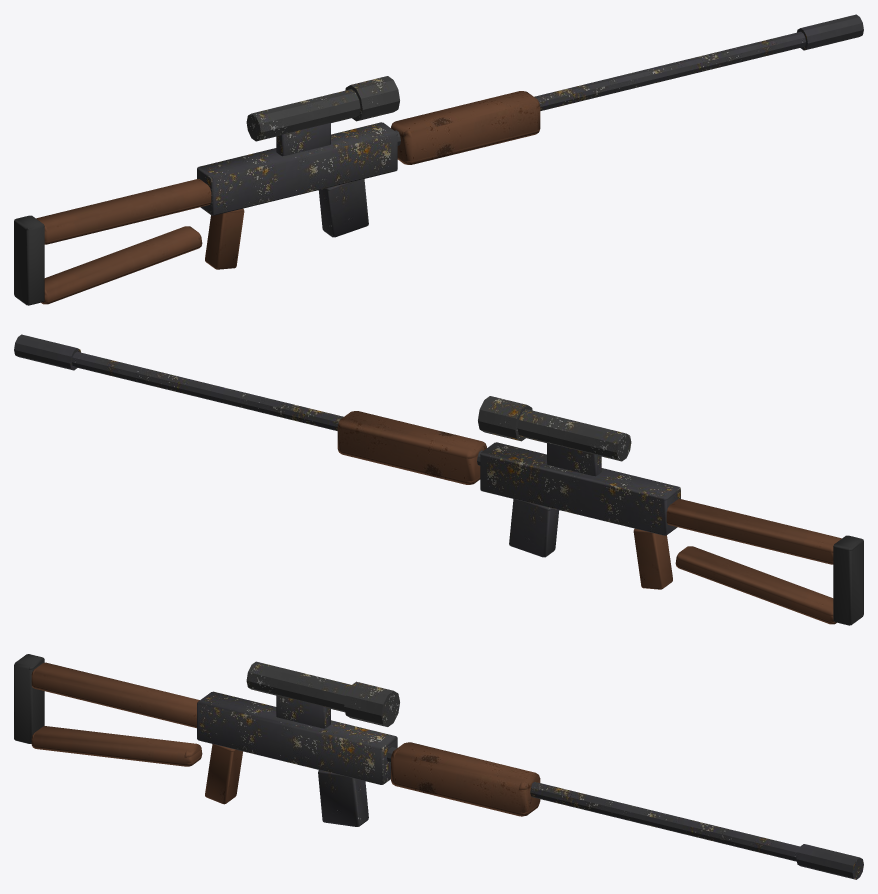
Rendered from held_weapon_svd.glb.
3 views of the same model, one above another, from view 1: azimuth 30°, elevation 25°; view 2: azimuth 150°, elevation 25°; view 3: azimuth 330°, elevation 25° (orthographic).
Parts seen in each view (by area): view 1: box, box.001, box.003, cyl, box.004, cyl.002, box.005, box.002, box.006, cyl.003, cyl.001, box.007; view 2: box, box.001, box.003, cyl, box.004, cyl.002, box.005, box.002, box.006, cyl.003, cyl.001, box.007; view 3: box, box.001, box.003, cyl, box.004, cyl.002, box.002, box.005, cyl.003, box.006, cyl.001, box.007.
Boxes of the visible parts, left/top/right/bottom form: box: left=197, top=122, right=397, bottom=215; box.001: left=391, top=91, right=540, bottom=164; box.003: left=36, top=179, right=211, bottom=244; cyl: left=395, top=31, right=805, bottom=145; box.004: left=41, top=226, right=202, bottom=304; cyl.002: left=246, top=89, right=360, bottom=141; box.005: left=14, top=215, right=44, bottom=305; box.002: left=318, top=179, right=368, bottom=237; box.006: left=205, top=208, right=244, bottom=269; cyl.003: left=345, top=76, right=399, bottom=121; cyl.001: left=797, top=14, right=863, bottom=50; box.007: left=276, top=123, right=330, bottom=156; box: left=480, top=442, right=680, bottom=535; box.001: left=337, top=411, right=486, bottom=484; box.003: left=666, top=499, right=841, bottom=564; cyl: left=72, top=351, right=482, bottom=465; box.004: left=675, top=546, right=836, bottom=624; cyl.002: left=517, top=409, right=631, bottom=461; box.005: left=833, top=535, right=863, bottom=625; box.002: left=509, top=499, right=559, bottom=557; box.006: left=633, top=528, right=672, bottom=589; cyl.003: left=478, top=396, right=532, bottom=441; cyl.001: left=14, top=334, right=80, bottom=370; box.007: left=547, top=443, right=601, bottom=476; box: left=197, top=691, right=397, bottom=784; box.001: left=391, top=742, right=540, bottom=816; box.003: left=31, top=662, right=199, bottom=728; cyl: left=387, top=747, right=799, bottom=861; box.004: left=31, top=726, right=202, bottom=766; cyl.002: left=246, top=661, right=397, bottom=722; box.002: left=318, top=770, right=368, bottom=826; box.005: left=14, top=654, right=44, bottom=743; cyl.003: left=344, top=681, right=399, bottom=726; box.006: left=205, top=744, right=242, bottom=804; cyl.001: left=796, top=844, right=863, bottom=879; box.007: left=276, top=695, right=330, bottom=728.
Size of the model in its own units: 1.35 by 0.2257 by 0.052.
4 materials, 3 textured.
